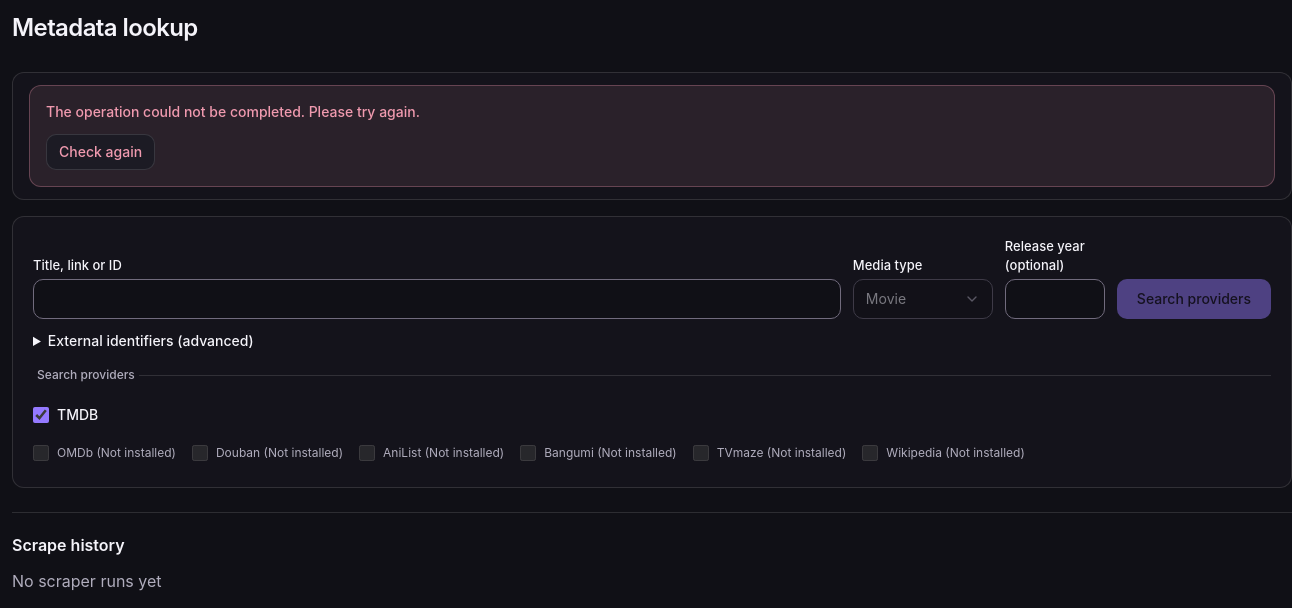
it: retries a failed local target read without requiring another selection
The width and height of the screenshot is (1292, 608).
Expected: the message "The operation could not be completed. Please try again. Check again" is shown, [29,85,1275,187]
Step 1. Click the button "Check again" → (101, 152), box [46,134,155,170]
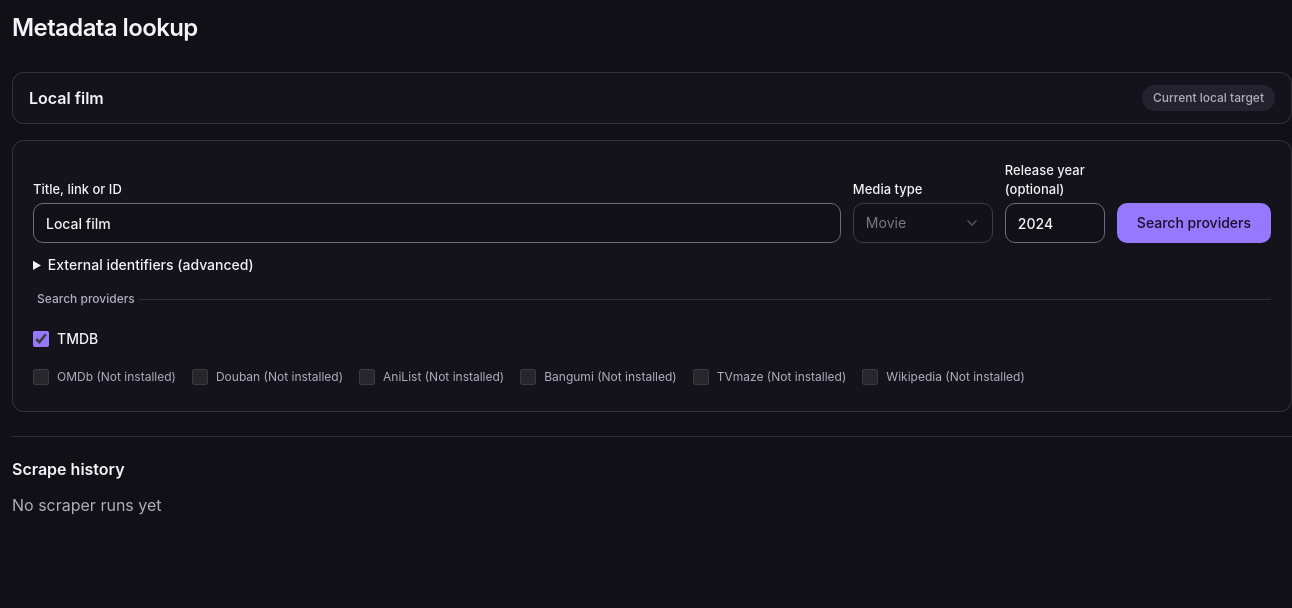
Result: the field labelled "Title, link or ID" holds "Local film" at [33,203,841,243]
